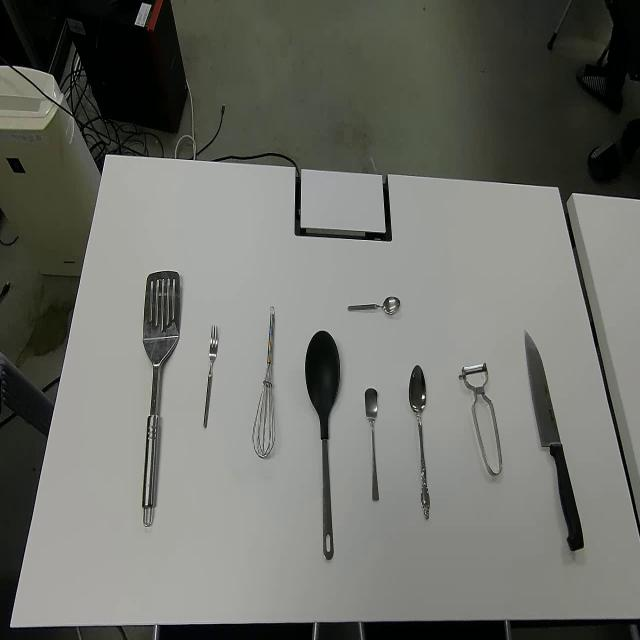Desert-Spoon: (408, 364, 431, 520)
Dinner-Fork: (202, 324, 218, 432)
Kitchen-Knife: (524, 328, 585, 553)
Peeler: (458, 361, 503, 478)
Serving-Spoon: (140, 269, 181, 526), (304, 328, 342, 561)
Tea-Spoon: (364, 385, 379, 503), (347, 292, 401, 317)
Whisk: (250, 305, 276, 457)
